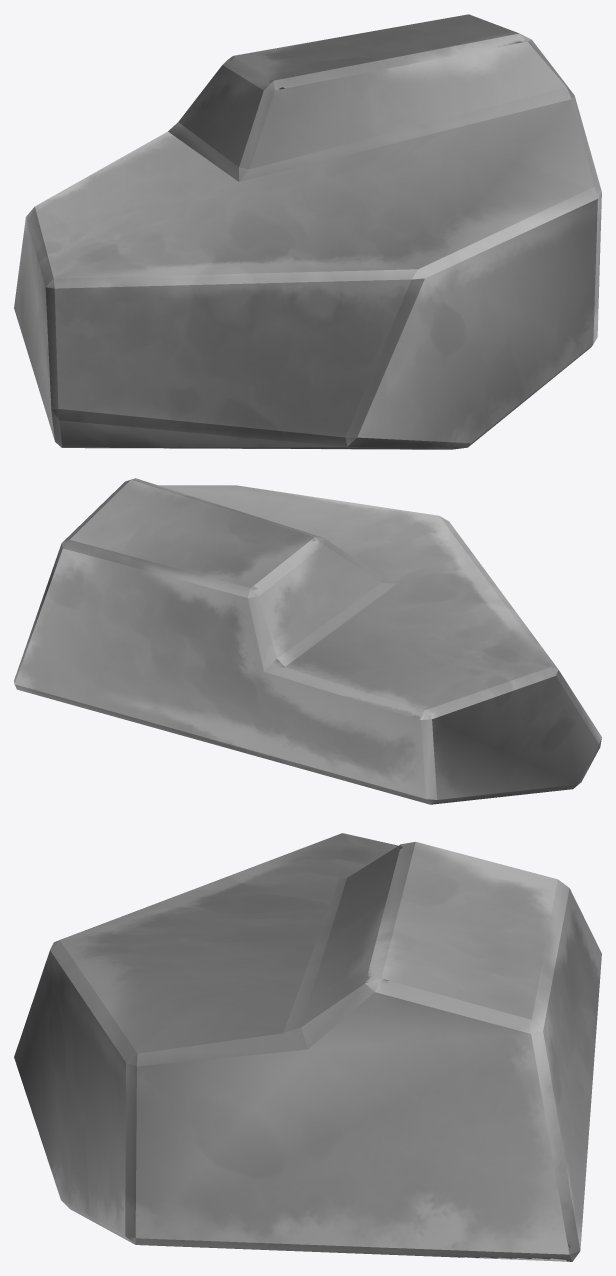
The model's file is Stone_3_LowpPoly.FBX.
3 views of the same model, one above another, from view 1: azimuth 30°, elevation 25°; view 2: azimuth 150°, elevation 25°; view 3: azimuth 270°, elevation 25° (orthographic). The views are drawn at different scales.
Parts seen in each view (by area): view 1: Rock006; view 2: Rock006; view 3: Rock006.
Boxes of the visible parts, x1,y1,x2,y2 form: Rock006: (14,14,601,449); Rock006: (14,478,601,804); Rock006: (14,833,601,1261).
Bounding box in the file's own units: 133 × 97.35 × 61.64.
Materials: 1 (1 with a texture image).
